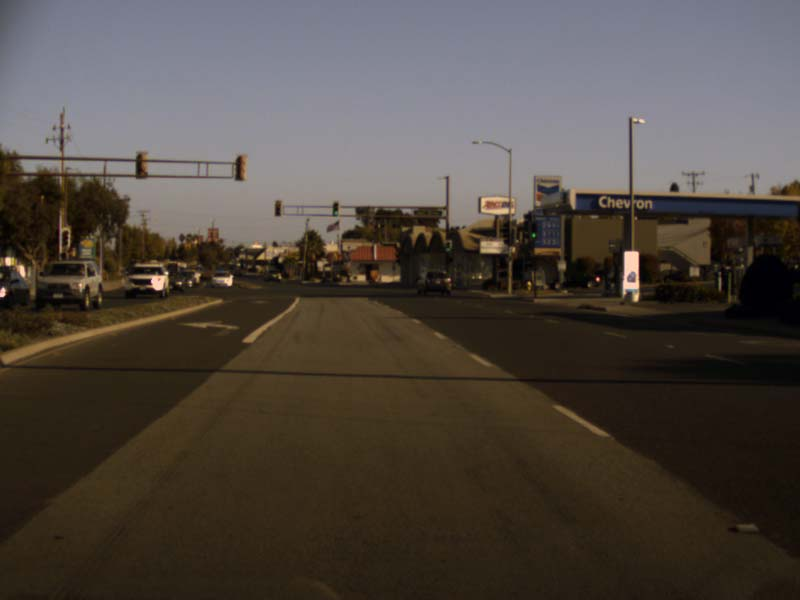Green: (529, 222, 537, 238), (332, 201, 339, 216), (444, 240, 451, 251)
Red: (274, 199, 281, 216)
